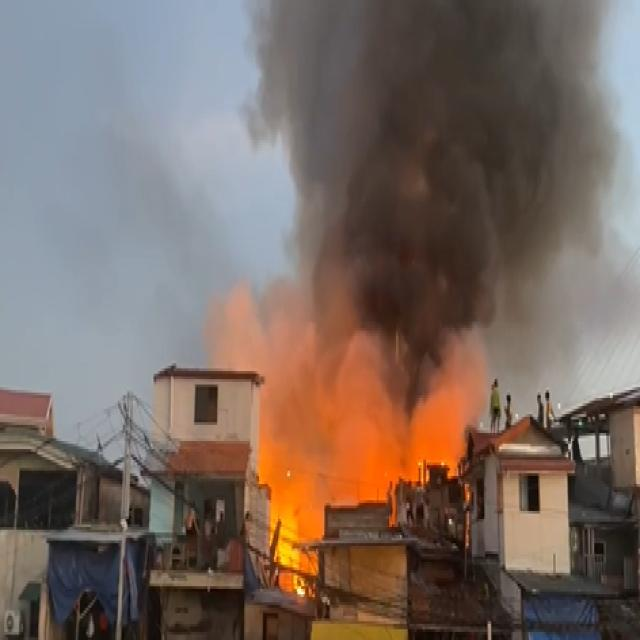Fire: (266, 436, 312, 578)
Smoke: (288, 0, 616, 264), (293, 254, 480, 404), (270, 374, 460, 472), (222, 283, 314, 371)
